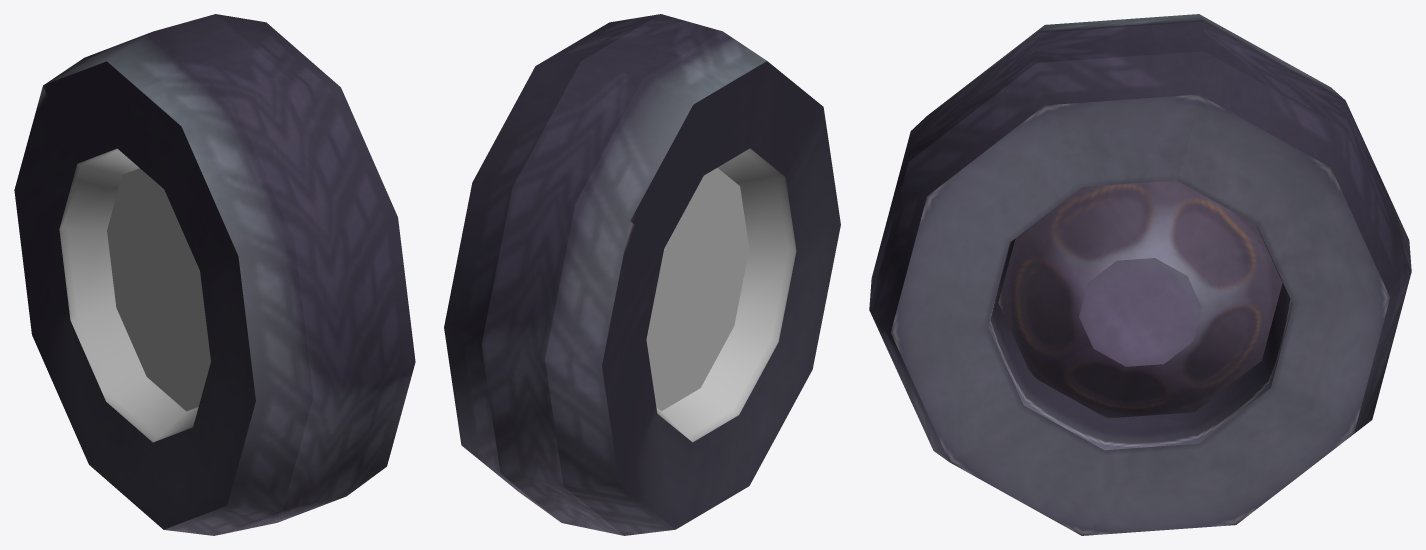
Rendered from wheel.obj.
3 views of the same model, side by side, from view 1: azimuth 30°, elevation 25°; view 2: azimuth 150°, elevation 25°; view 3: azimuth 270°, elevation 25° (orthographic). The views are drawn at different scales.
Parts seen in each view (by area): view 1: Wheels; view 2: Wheels; view 3: Wheels.
Boxes of the visible parts, box(x1,y1,x2,y2) form: Wheels: box(14, 14, 415, 535); Wheels: box(444, 14, 840, 535); Wheels: box(869, 14, 1411, 535).
Size of the model in its own units: 0.2147 by 0.5961 by 0.6113.
1 material, 1 textured.
